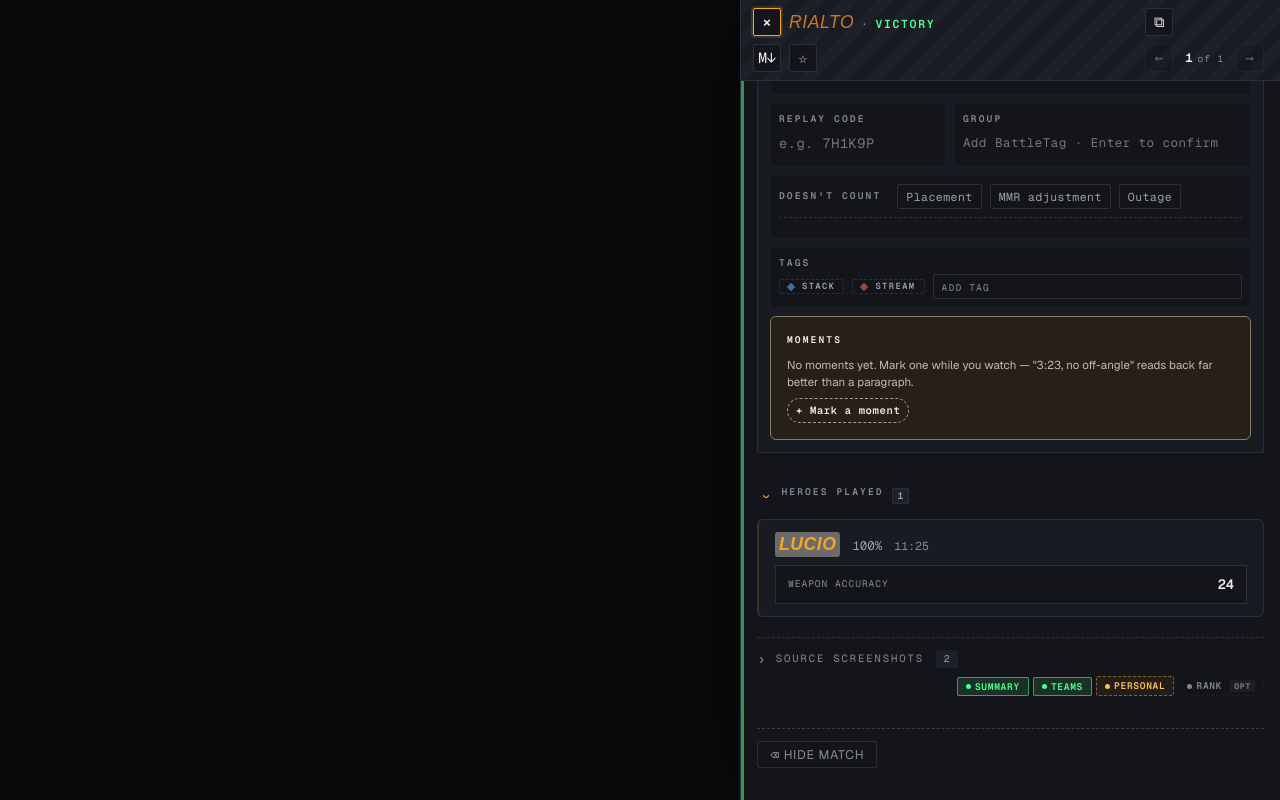
Test case: MatchDetailPanel — soft-delete flow › first Hide click reveals Confirm + Cancel; does NOT write yet
(page scrolled)
Step 1. Click the button "⌫ Hide match" → (817, 755), box [757,742,877,768]
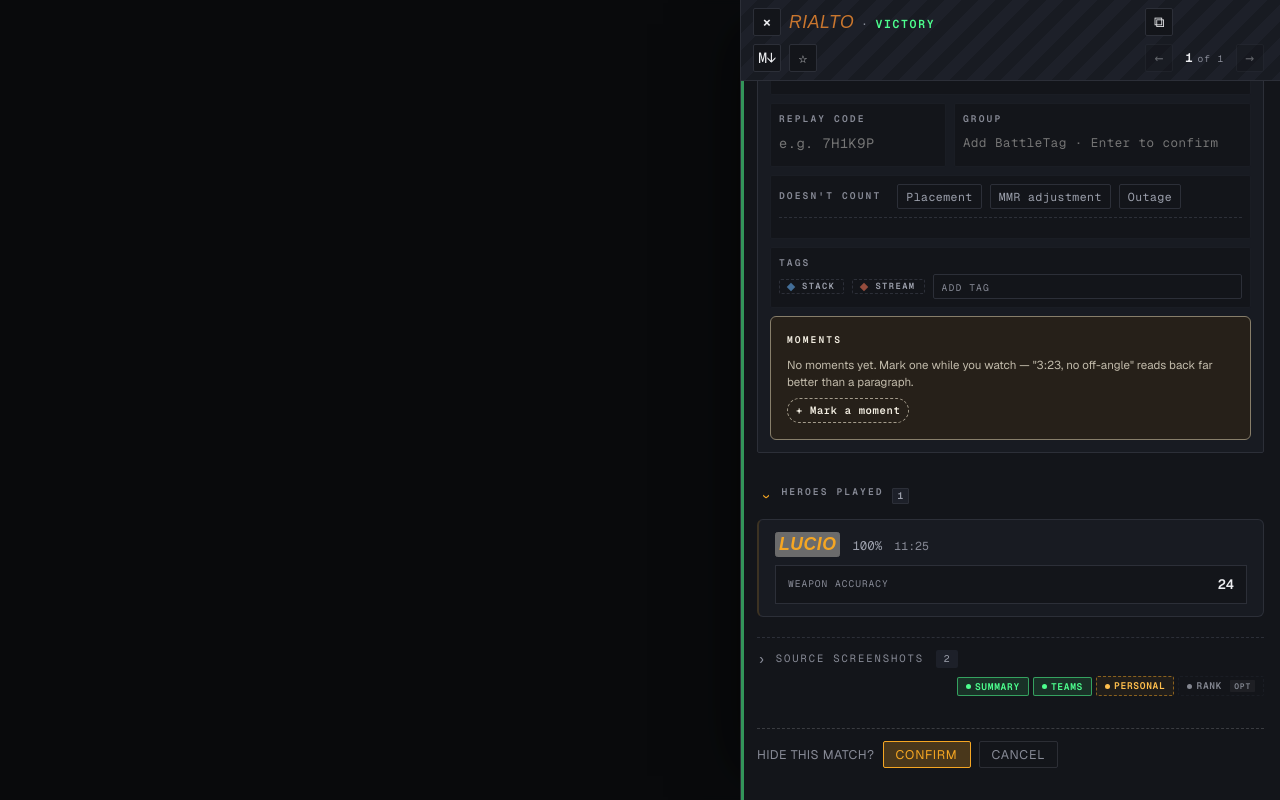
Result: the button "Confirm" is shown at [883,742,970,768]
Result: the button "Cancel" is shown at [978,742,1058,768]
